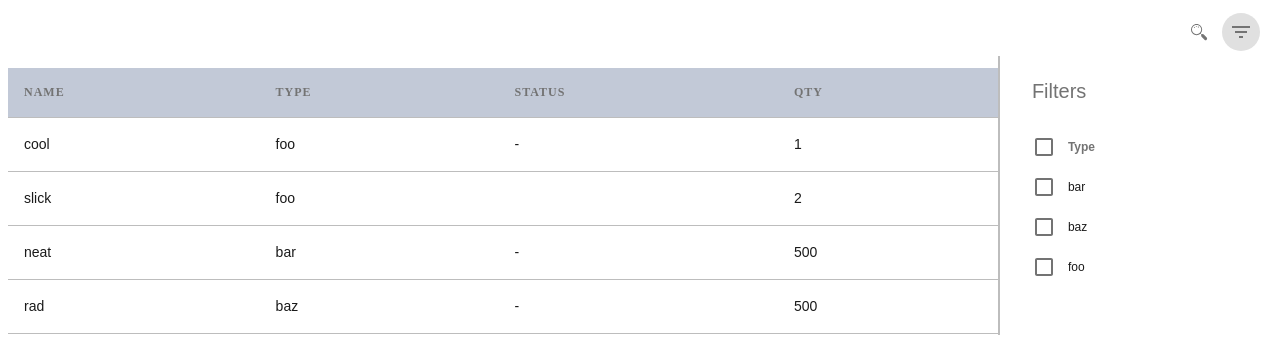
Test: DataTableFilters › should remove a param when a single chip is clicked
Click the 4th checkbox: click(1044, 267) [1032,255,1056,279]
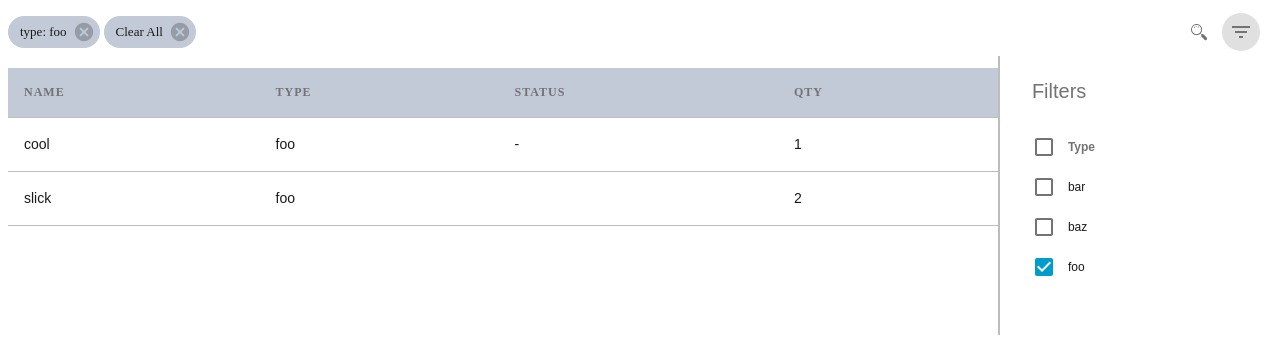
Result: the text "Clear All" is shown at [116,24,163,39]
Click the 1st icon: click(84, 32) [73,21,95,43]
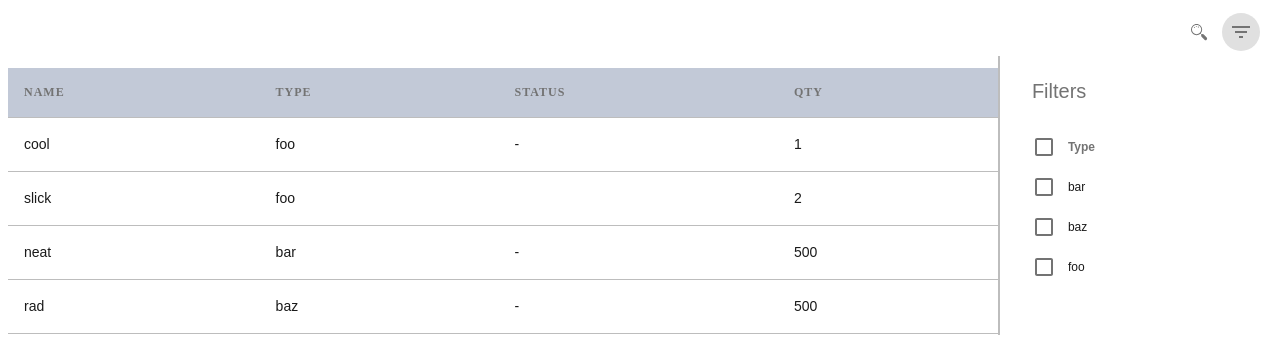
Result: the button "Clear All" is gone
